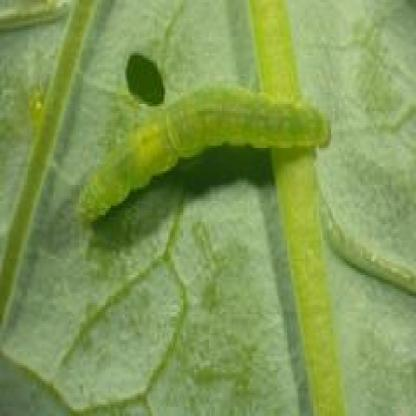armyworm: (69, 85, 344, 235)
